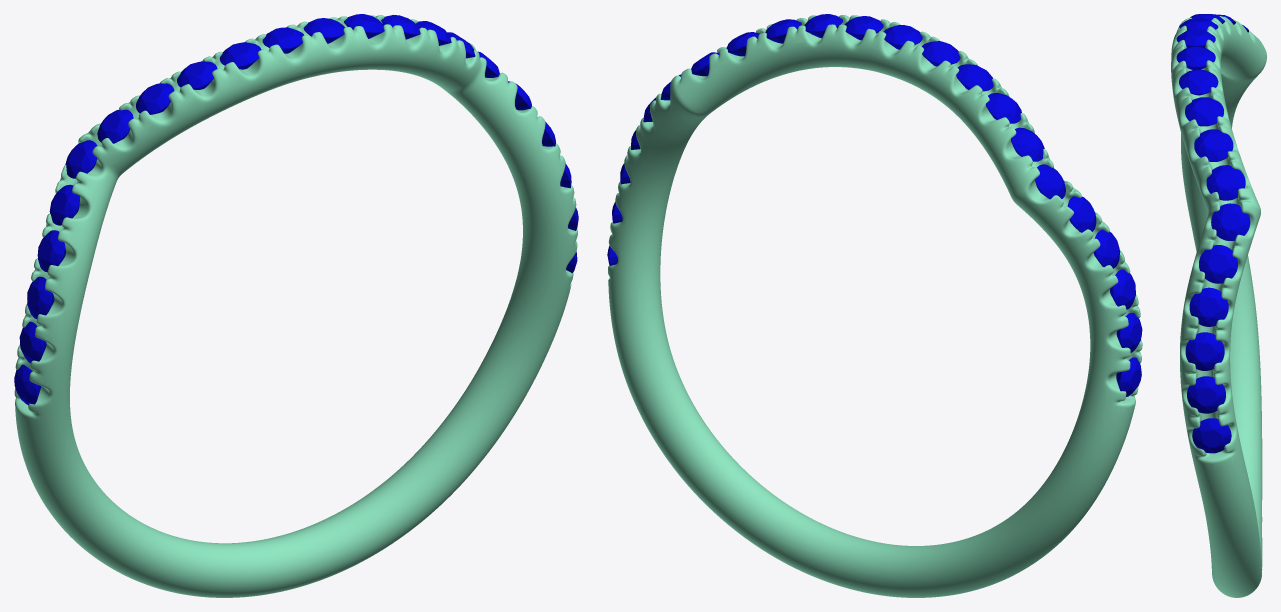
The picture shows the model from 3 angles, left to right: view 1: azimuth 30°, elevation 25°; view 2: azimuth 150°, elevation 25°; view 3: azimuth 270°, elevation 25°; orthographic projection. The views are drawn at different scales.
Visible parts, largest first — view 1: Metal03, Diamond_Band.011, Diamond_Band.014, Diamond_Band.016, Diamond_Band.015, Diamond_Band.017, Diamond_Band.010, Diamond_Band.012, Diamond_Band.009, Diamond_Band.008, Diamond_Band.018; view 2: Metal03, Diamond_Band.014, Diamond_Band.015, Diamond_Band.011, Diamond_Band.016, Diamond_Band.017, Diamond_Band.010, Diamond_Band.012, Diamond_Band.009; view 3: Metal03, Diamond_Band.003, Diamond_Band.002, Diamond_Band.004, Diamond_Band.020, Diamond_Band.001, Diamond_Band, Diamond_Band.021, Diamond_Band.019, Diamond_Band.005, Diamond_Band.006, Diamond_Band.007 (+3 smaller).
Part boxes in pixels (x1,y1,x2,y2): Metal03: (14, 15, 577, 597); Diamond_Band.011: (136, 83, 174, 114); Diamond_Band.014: (97, 109, 133, 143); Diamond_Band.016: (49, 184, 79, 225); Diamond_Band.015: (65, 140, 97, 178); Diamond_Band.017: (37, 230, 65, 272); Diamond_Band.010: (177, 61, 217, 89); Diamond_Band.012: (27, 276, 54, 318); Diamond_Band.009: (219, 42, 261, 69); Diamond_Band.008: (262, 27, 303, 53); Diamond_Band.018: (19, 321, 46, 363); Metal03: (608, 15, 1142, 597); Diamond_Band.014: (1011, 127, 1044, 161); Diamond_Band.015: (1035, 164, 1065, 199); Diamond_Band.011: (986, 93, 1021, 123); Diamond_Band.016: (1067, 196, 1096, 232); Diamond_Band.017: (1093, 229, 1120, 268); Diamond_Band.010: (956, 64, 993, 91); Diamond_Band.012: (1110, 269, 1135, 309); Diamond_Band.009: (922, 41, 960, 66); Metal03: (1171, 16, 1266, 597); Diamond_Band.003: (1189, 287, 1228, 326); Diamond_Band.002: (1185, 332, 1224, 370); Diamond_Band.004: (1199, 245, 1237, 283); Diamond_Band.020: (1211, 203, 1250, 240); Diamond_Band.001: (1187, 376, 1225, 413); Diamond_Band: (1192, 418, 1231, 453); Diamond_Band.021: (1206, 165, 1245, 200); Diamond_Band.019: (1194, 129, 1233, 161); Diamond_Band.005: (1185, 97, 1223, 126); Diamond_Band.006: (1179, 69, 1218, 95); Diamond_Band.007: (1176, 46, 1215, 70).
Bounding box in the file's own units: 20.84 × 20.86 × 3.43.
